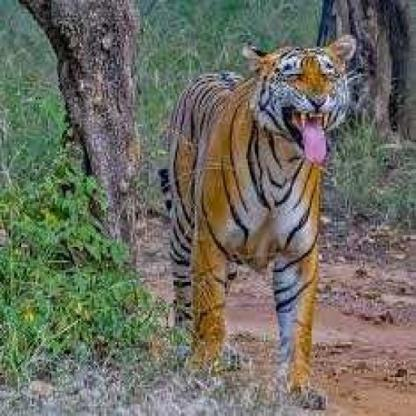Tiger: (143, 31, 365, 403)
